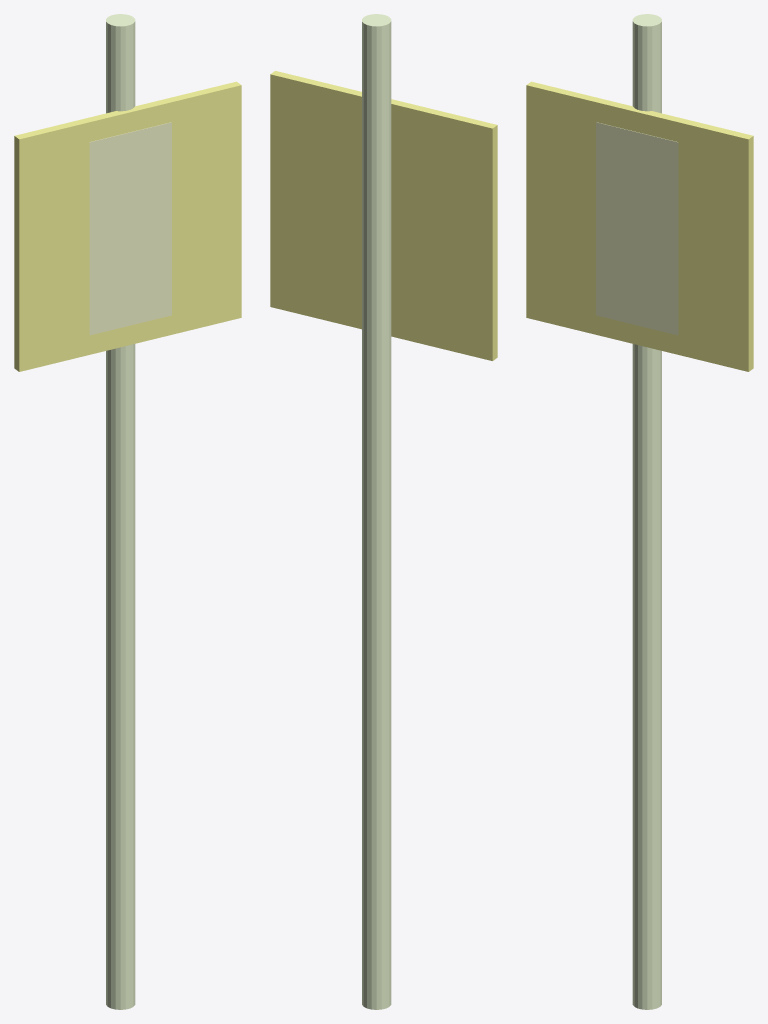
File: sign_signal_ahead.glb
3 views of the same model, side by side, from view 1: azimuth 30°, elevation 25°; view 2: azimuth 150°, elevation 25°; view 3: azimuth 330°, elevation 25° (orthographic).
Parts seen in each view (by area): view 1: plate_base_00, pole, layer_1_00; view 2: plate_base_00, pole; view 3: plate_base_00, pole, layer_1_00, layer_1_02, layer_1_01.
Part boxes in pixels (<box>): plate_base_00: <box>14,81,241,371</box>; pole: <box>106,14,135,1009</box>; layer_1_00: <box>89,122,171,335</box>; plate_base_00: <box>270,71,497,360</box>; pole: <box>362,14,391,1009</box>; plate_base_00: <box>526,81,753,371</box>; pole: <box>632,14,661,1009</box>; layer_1_00: <box>596,122,678,335</box>; layer_1_02: <box>617,208,657,250</box>; layer_1_01: <box>617,151,657,193</box>.
Bounding box in the file's own units: 0.5204 × 2.2 × 0.071.
